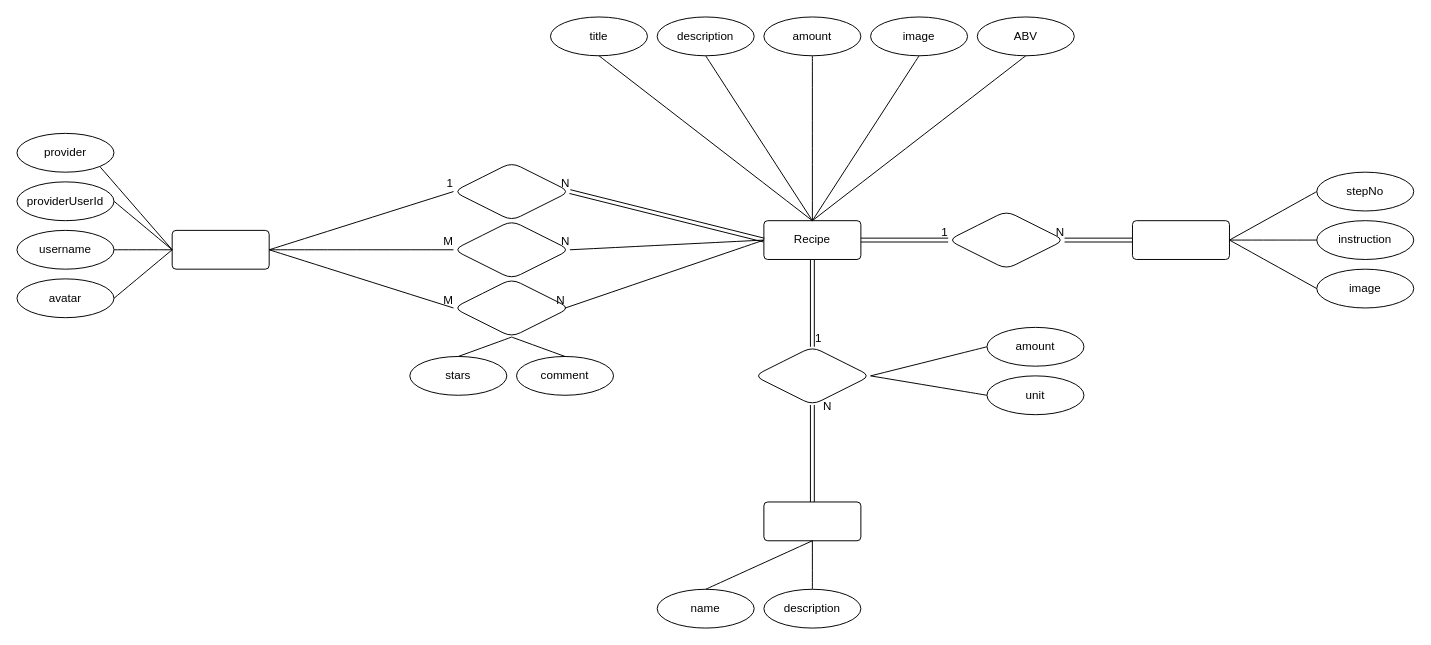
Image size: 1431x645. Some labels were removed from this diagram. Each missing label, with the centre of its shape:
Author: (511,191)
Contains: (1006,239)
Ingredient: (812,521)
Likes: (511,249)
Made by: (812,375)
Rating: (511,307)
Step: (1180,239)
User: (220,249)
